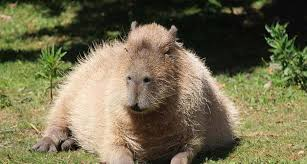capivara: (32, 21, 242, 164)
